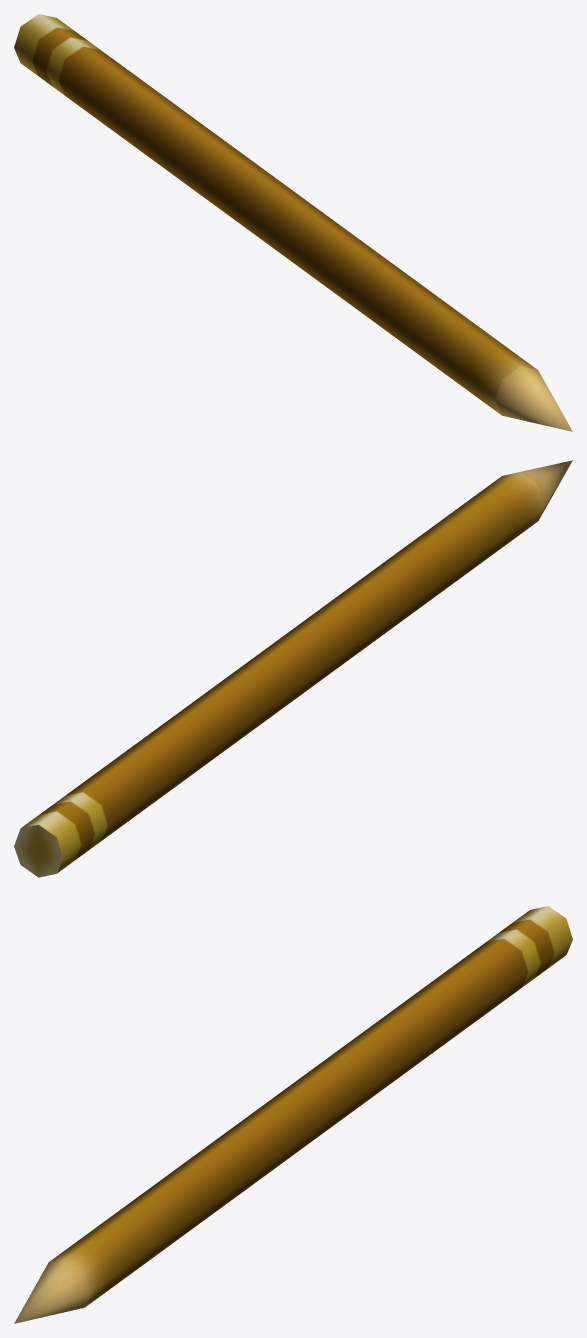
File: arrow.fbx
3 renders of one model, top to bottom at view 1: azimuth 30°, elevation 25°; view 2: azimuth 150°, elevation 25°; view 3: azimuth 330°, elevation 25°, orthographic.
Visible parts, largest first — view 1: arrow; view 2: arrow; view 3: arrow.
Part boxes in pixels (x1,y1,x2,y2): arrow: [14, 14, 572, 431]; arrow: [14, 460, 572, 877]; arrow: [14, 906, 572, 1323].
Size of the model in its own units: 4.98 by 5.12 by 93.58.
